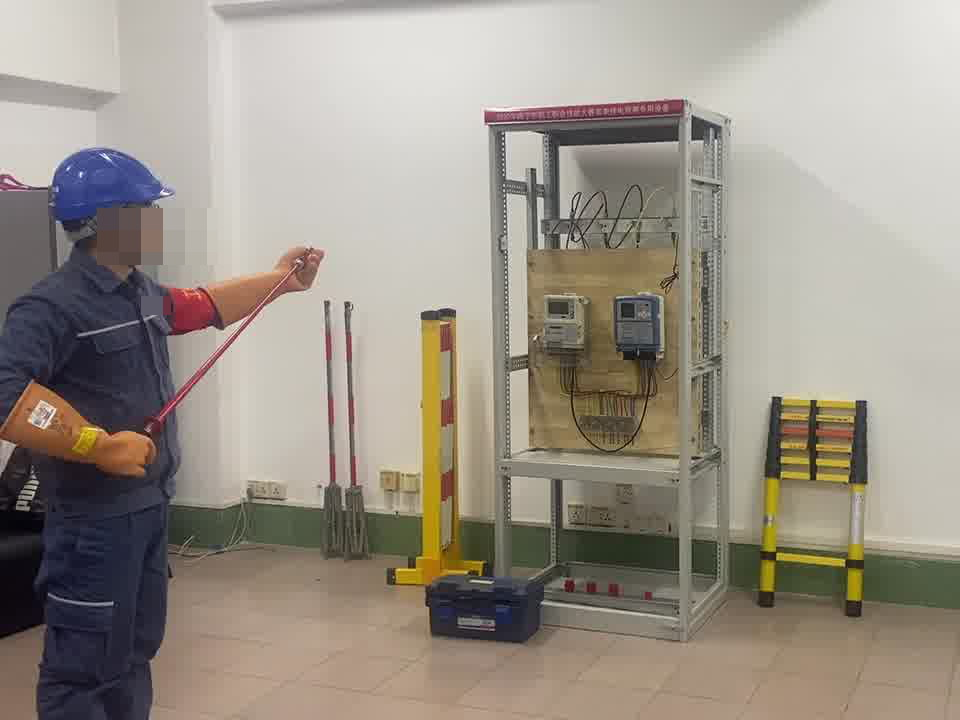badge: (167, 284, 222, 337)
downsuit: (30, 521, 175, 720)
halt: (46, 146, 178, 271)
inear: (84, 204, 143, 273)
longglove: (3, 376, 158, 487), (195, 241, 325, 328)
person: (2, 140, 206, 720)
testrod: (129, 232, 316, 440)
upsuit: (1, 257, 191, 531)
